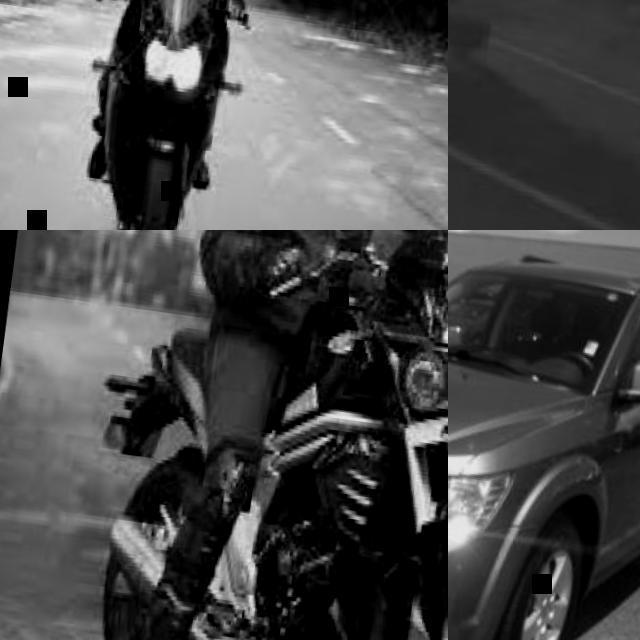car: (195, 401, 398, 638), (86, 0, 233, 216), (306, 330, 414, 420)
